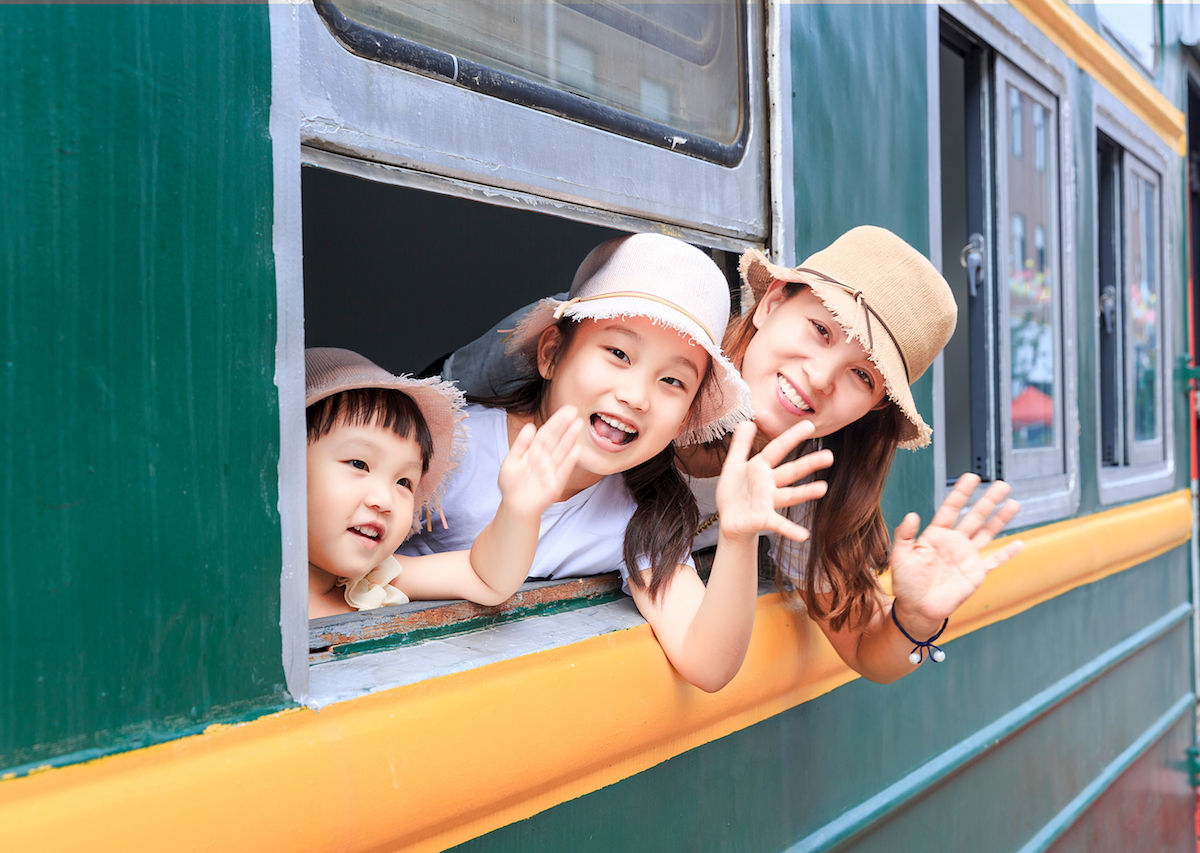without_mask: (575, 325, 707, 476), (751, 302, 889, 432), (312, 424, 419, 580)
